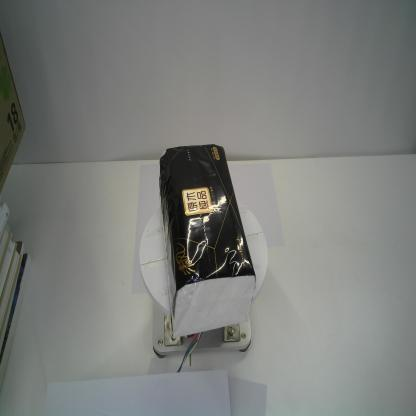Tissue: (158, 139, 258, 337)
